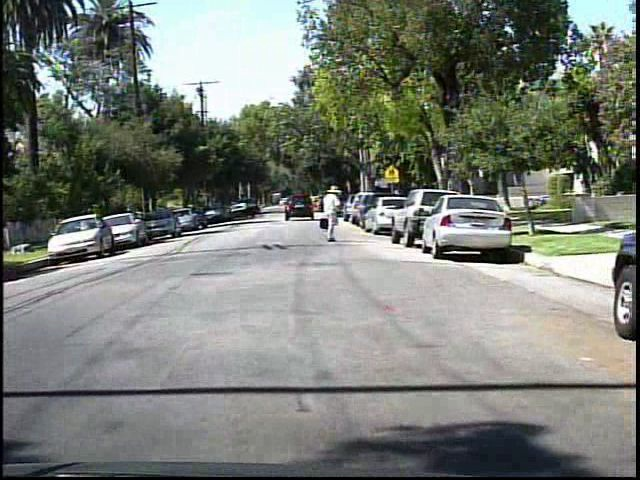person: (316, 184, 348, 244)
